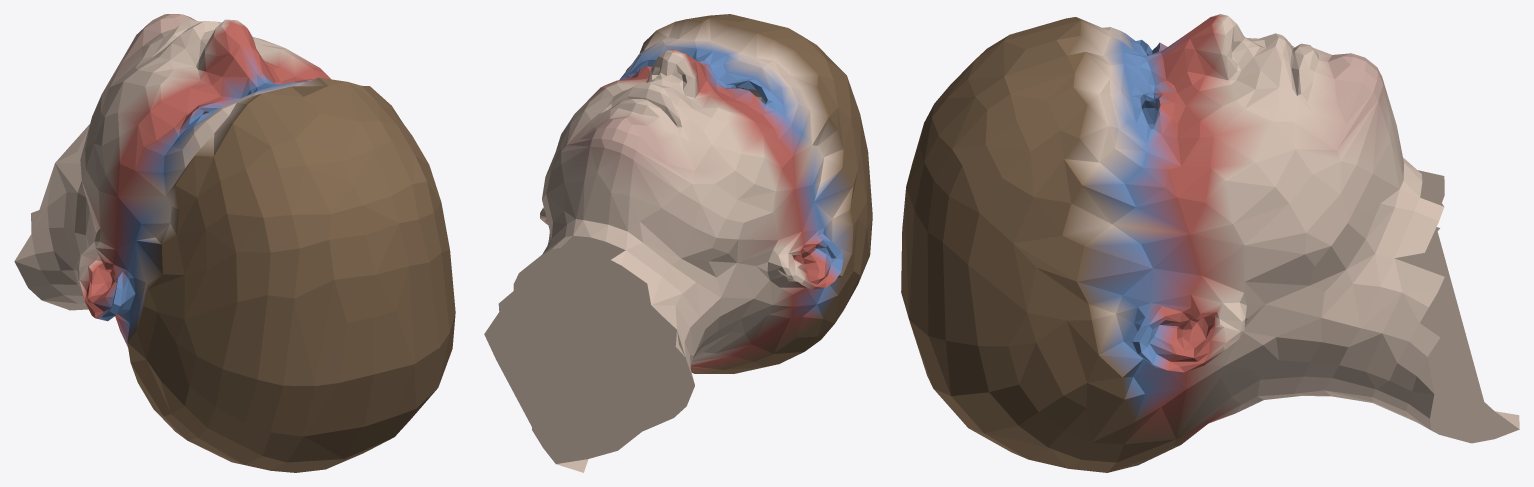
The model's file is windman_head_authored_flat.glb.
3 renders of one model, left to right at view 1: azimuth 30°, elevation 25°; view 2: azimuth 150°, elevation 25°; view 3: azimuth 270°, elevation 25°, orthographic. The views are drawn at different scales.
Visible parts, largest first — view 1: Human.001; view 2: Human.001; view 3: Human.001.
Part boxes in pixels (x1=…): Human.001: x1=14, y1=14, x2=455, y2=472; Human.001: x1=484, y1=14, x2=872, y2=472; Human.001: x1=901, y1=14, x2=1519, y2=472.
Size of the model in its own units: 0.1945 by 0.2308 by 0.2941.
